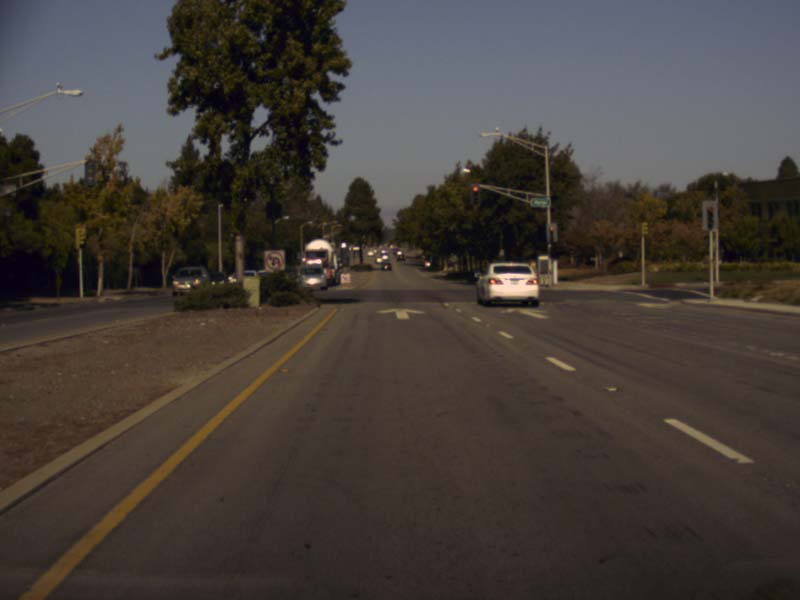Red: (706, 206, 713, 228), (471, 186, 479, 203), (548, 225, 553, 243)
